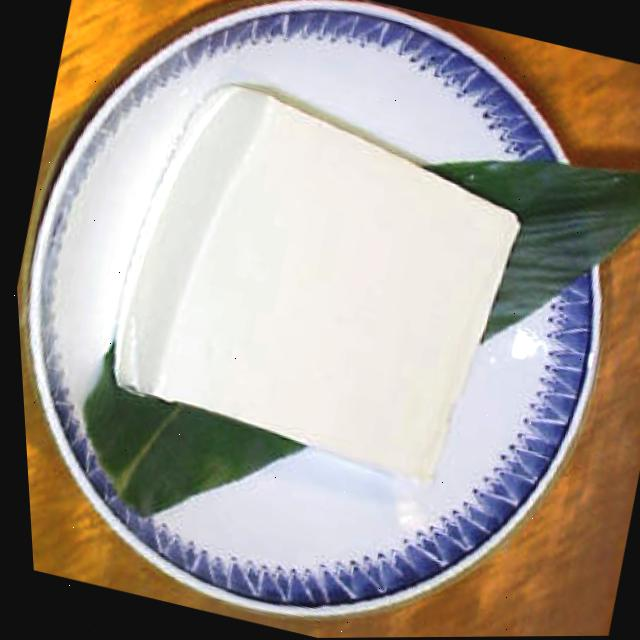豆腐料理: (69, 52, 560, 509)
